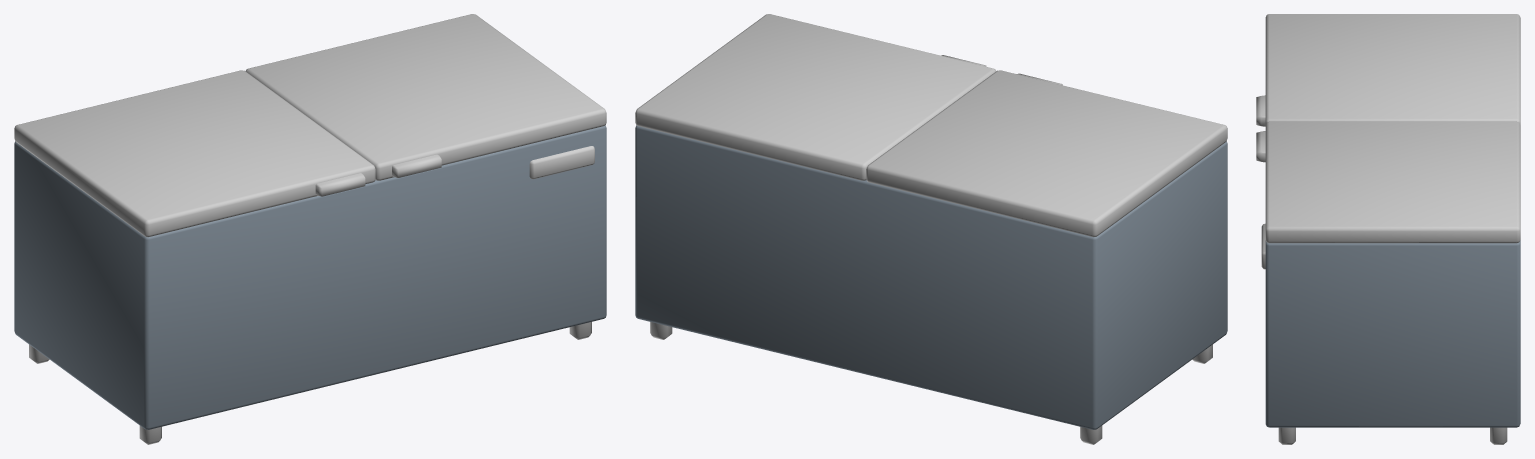
Rendered from Deepfreeze-1.fbx.
3 views of the same model, side by side, from view 1: azimuth 30°, elevation 25°; view 2: azimuth 150°, elevation 25°; view 3: azimuth 270°, elevation 25° (orthographic). The views are drawn at different scales.
Visible parts, largest first — view 1: Deepfreeze-1, Deepfreeze-1.003, Deepfreeze-1.002; view 2: Deepfreeze-1, Deepfreeze-1.003, Deepfreeze-1.002; view 3: Deepfreeze-1, Deepfreeze-1.002, Deepfreeze-1.003.
Boxes of the visible parts, box(x1,y1,x2,y2) form: Deepfreeze-1: box(14, 125, 606, 444); Deepfreeze-1.003: box(14, 70, 375, 237); Deepfreeze-1.002: box(245, 14, 606, 180); Deepfreeze-1: box(635, 125, 1227, 444); Deepfreeze-1.003: box(866, 70, 1227, 237); Deepfreeze-1.002: box(635, 14, 996, 180); Deepfreeze-1: box(1261, 223, 1520, 444); Deepfreeze-1.002: box(1256, 121, 1520, 243); Deepfreeze-1.003: box(1256, 14, 1520, 126).
Bounding box in the file's own units: 2 × 0.9607 × 1.04.
